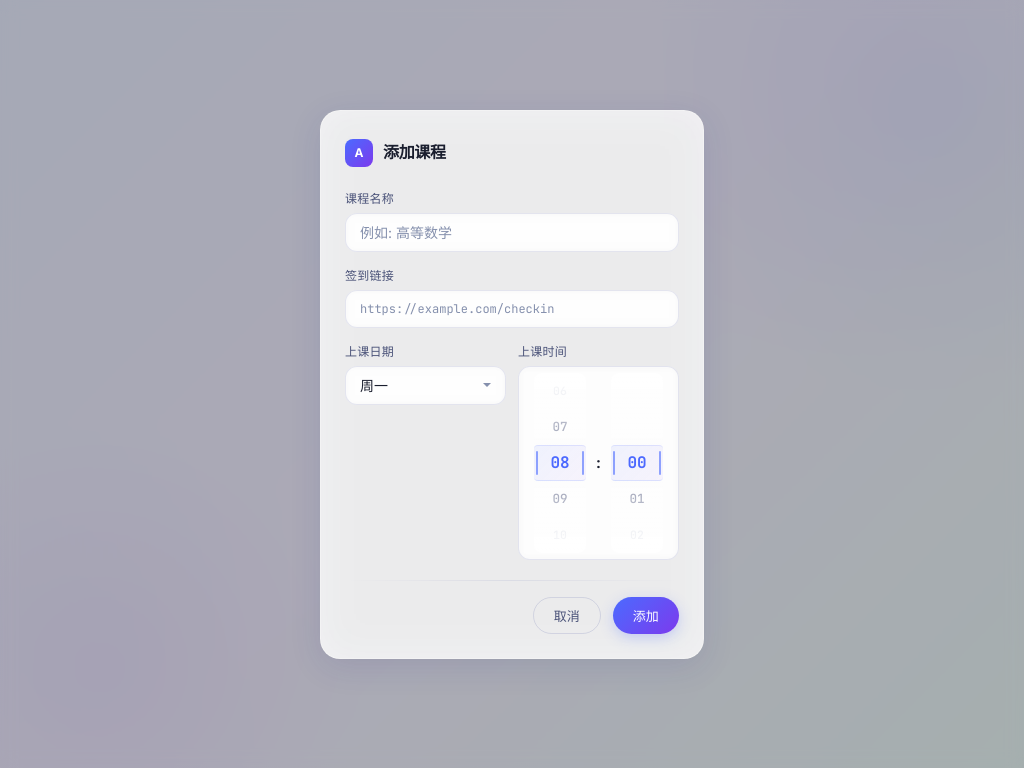
Scenario: CourseForm 组件 › 表单验证 › 签到链接为无效 URL 时显示错误
This screenshot has width=1024, height=768.
Type "高等数学" into the field with placeholder "例如: 高等数学". click: [512, 232]
box: [345, 212, 679, 252]
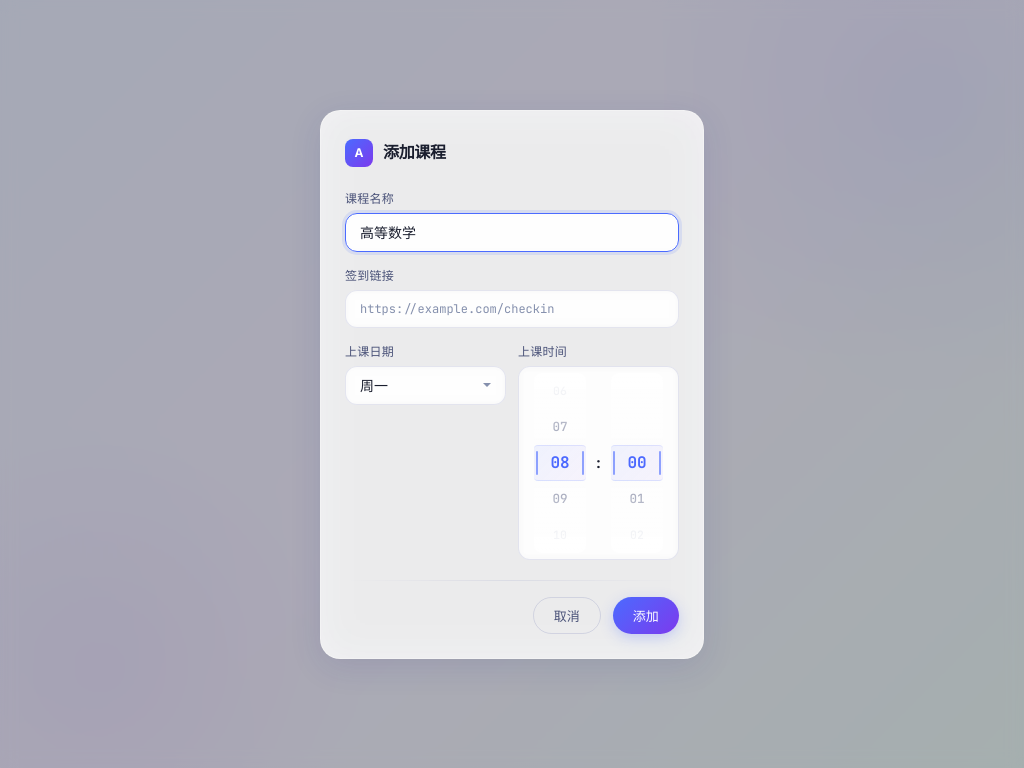
Type "not-a-valid-url" into the field with placeholder "https://example.com/checkin". click: [512, 308]
box: [345, 290, 679, 328]
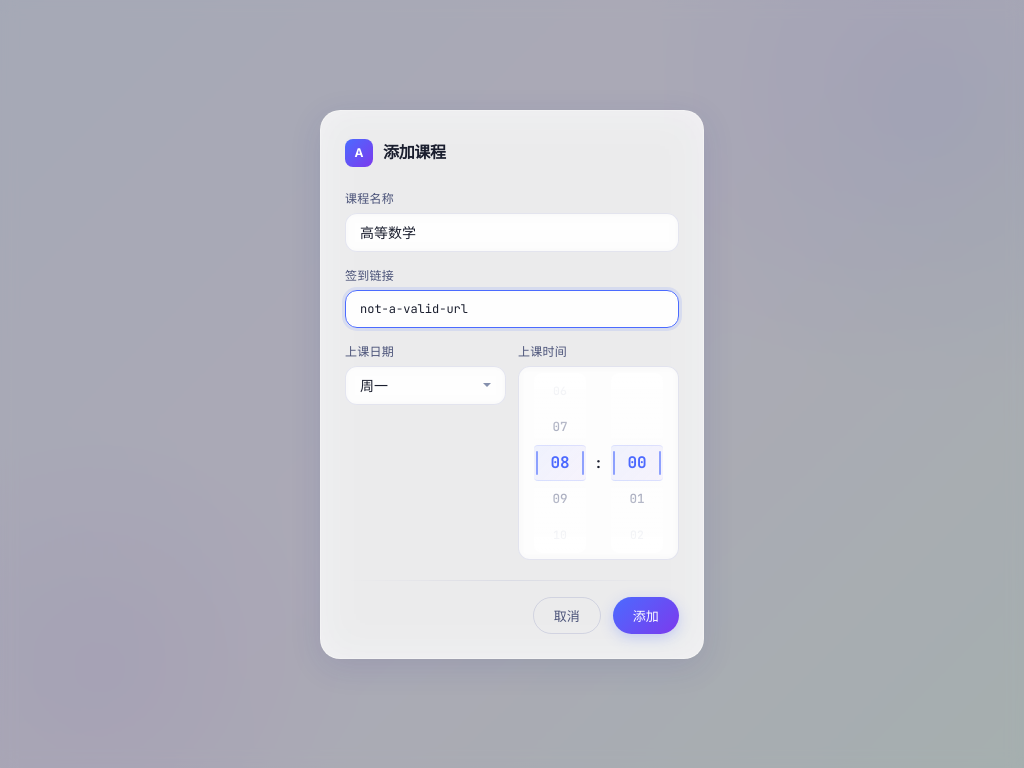
Click the button "添加". click: [646, 615]
box: [613, 596, 679, 634]
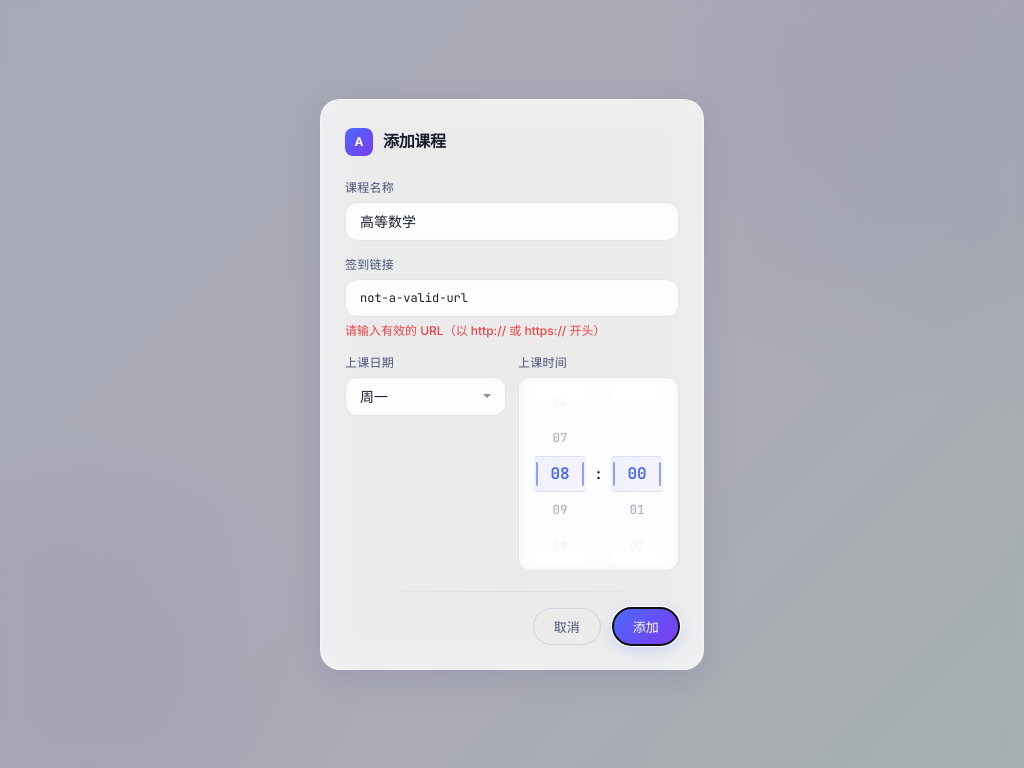
Expected: the text "请输入有效的 URL（以 http:// 或 https:// 开头）" is shown, [345, 322, 606, 338]
